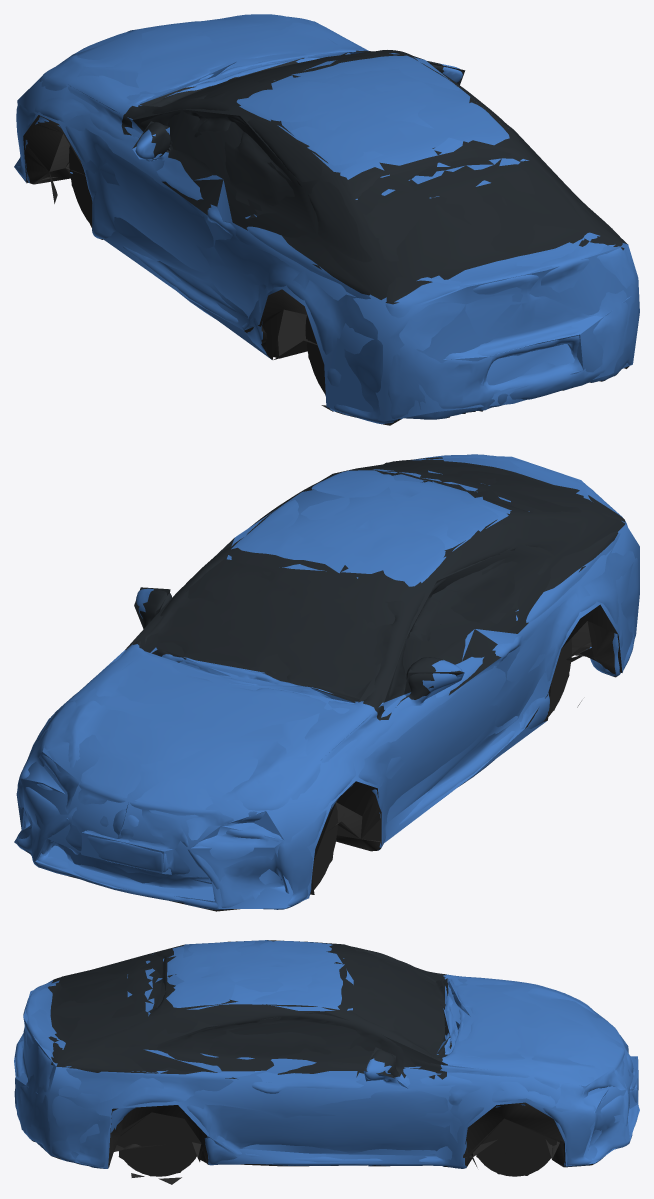
The model's file is lexus-rc.glb.
The picture shows the model from 3 angles, top to bottom: view 1: azimuth 30°, elevation 25°; view 2: azimuth 150°, elevation 25°; view 3: azimuth 270°, elevation 25°; orthographic projection. The views are drawn at different scales.
Visible parts, largest first — view 1: body, far; view 2: body, far; view 3: body, far.
Part boxes in pixels (<box>): body: <box>16,14,638,425</box>; far: <box>14,16,639,421</box>; body: <box>17,454,638,911</box>; far: <box>14,455,639,908</box>; body: <box>14,940,638,1184</box>; far: <box>14,940,639,1176</box>.
Size of the model in its own units: 2.17 by 1.45 by 4.76.
